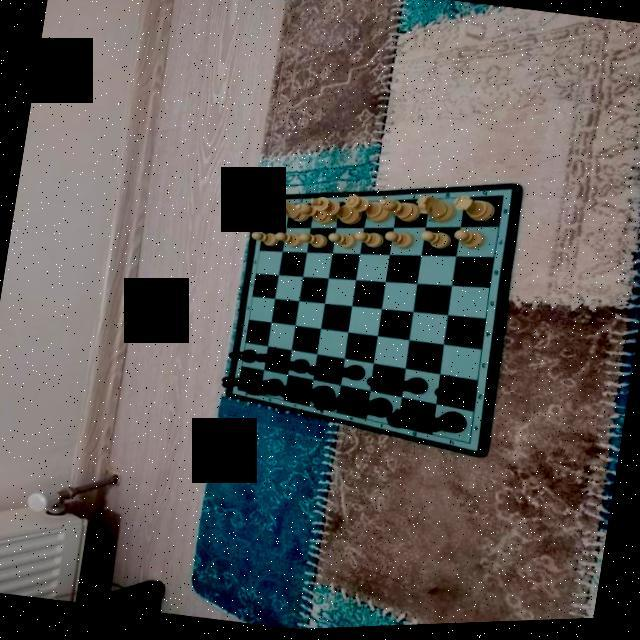chess-table-corners: (496, 194, 508, 206), (463, 442, 475, 452), (261, 202, 271, 212), (232, 388, 242, 397)
